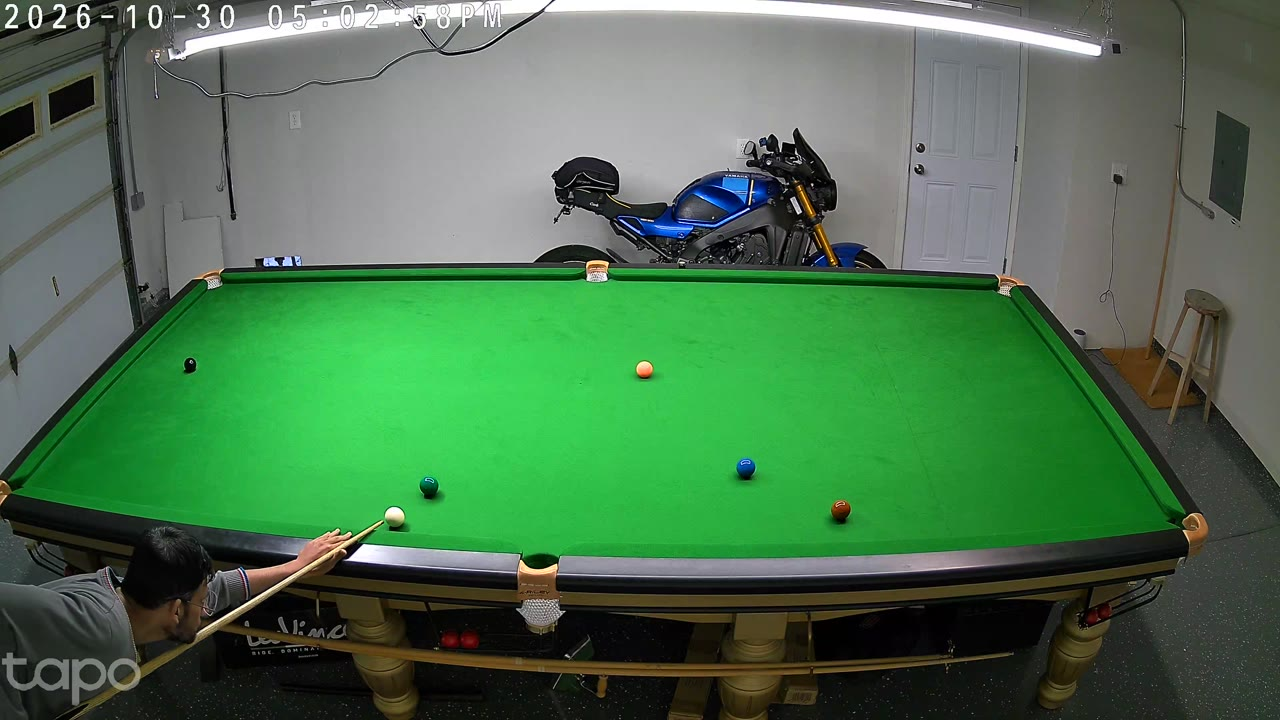black: (184, 356, 196, 375)
blue: (736, 456, 756, 482)
brown: (831, 498, 851, 526)
green: (419, 473, 439, 503)
pink: (636, 360, 652, 381)
white: (385, 503, 406, 534)
